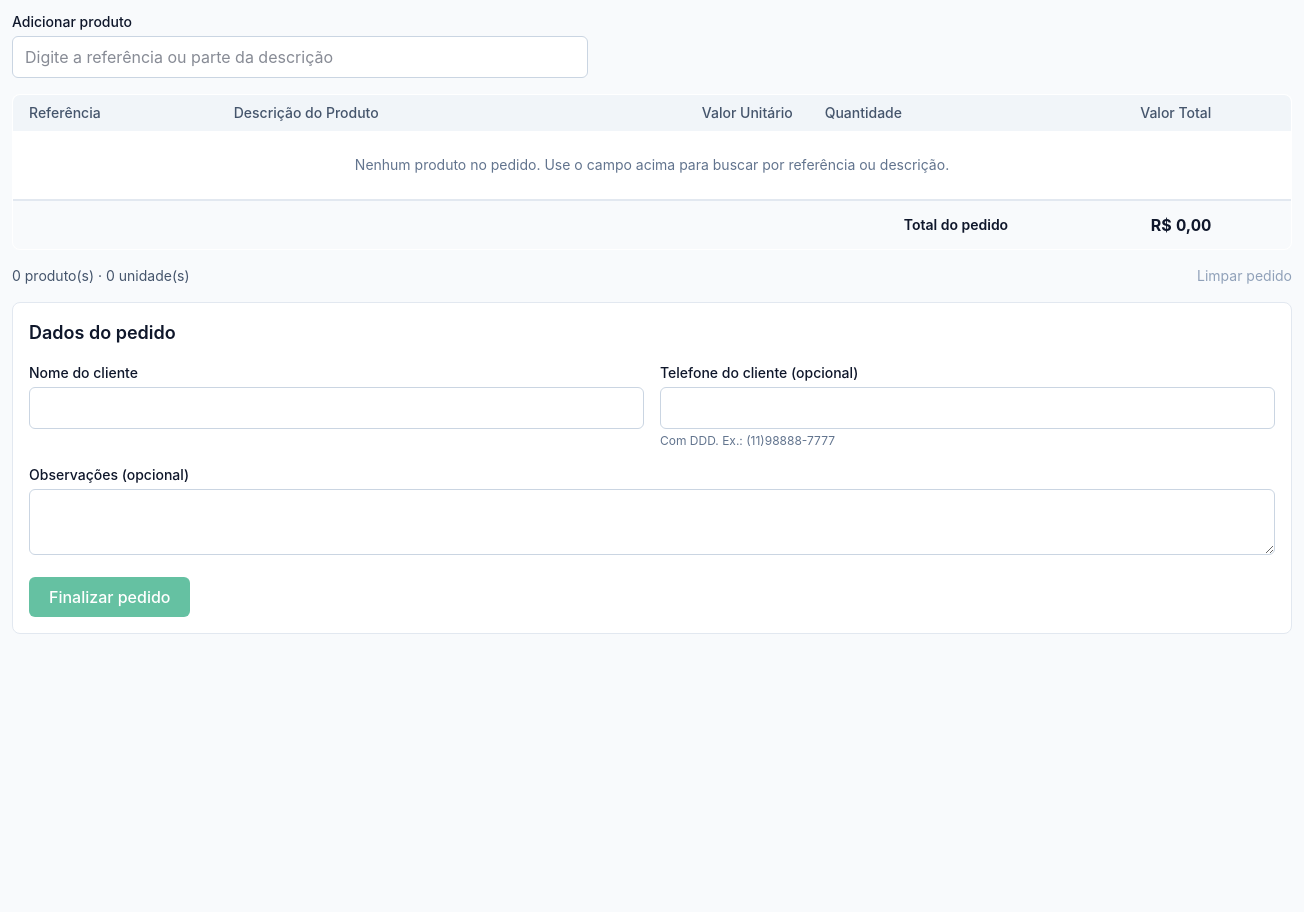
Scenario: seletor de produtos › busca ignorando acentos e maiúsculas
Type "CAFE" into the dropdown labelled "Adicionar produto" at (300, 57), box x1=12 y1=36 x2=588 y2=78
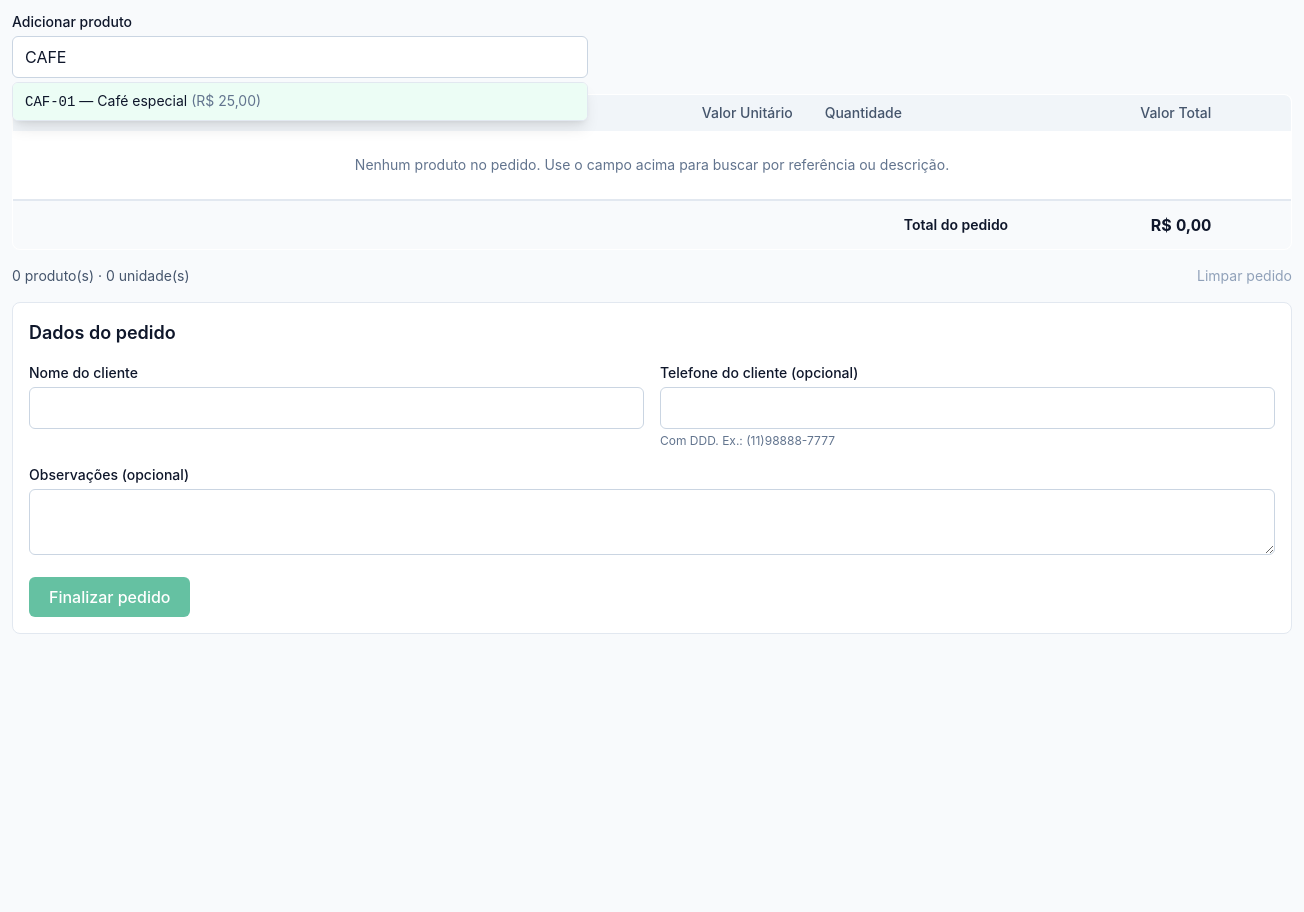
Now the option "CAF-01 — Café especial (R$ 25,00)" is shown, box x1=13 y1=83 x2=587 y2=120
